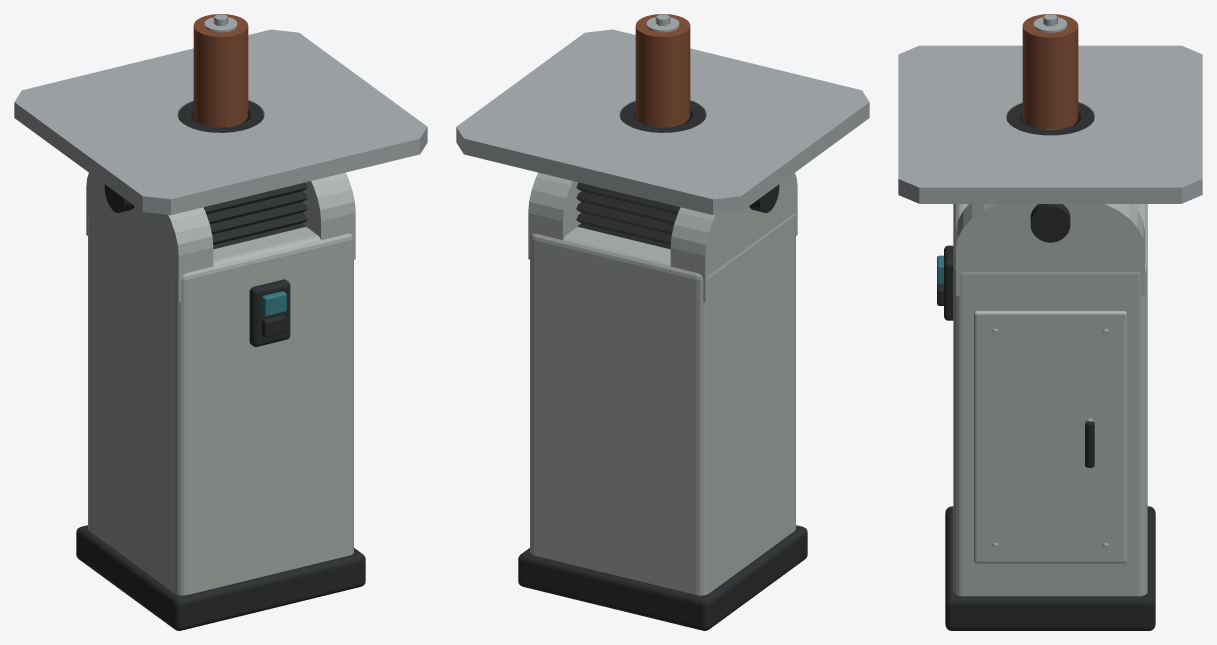
3 renders of one model, left to right at view 1: azimuth 30°, elevation 25°; view 2: azimuth 150°, elevation 25°; view 3: azimuth 270°, elevation 25°, orthographic. The views are drawn at different scales.
Visible parts, largest first — view 1: Tall closed cabinet, Clipped corner worktable with real opening, Black continuous floor plinth, Rounded table shoulder -0.16, Single thick abrasive drum, Continuous corrugated spindle shield, Rounded table shoulder 0.16, Front switch housing, Stepped circular table insert; view 2: Tall closed cabinet, Clipped corner worktable with real opening, Black continuous floor plinth, Rounded table shoulder -0.16, Single thick abrasive drum, Continuous corrugated spindle shield, Rounded table shoulder 0.16, Stepped circular table insert; view 3: Clipped corner worktable with real opening, Right service panel, Tall closed cabinet, Rounded table shoulder 0.16, Black continuous floor plinth, Single thick abrasive drum, Side table lock knob 0.226, Stepped circular table insert, Front switch housing, Right panel handle.
Part boxes in pixels (x1,y1,x2,y2): Tall closed cabinet: [88, 213, 353, 595]; Clipped corner worktable with real opening: [14, 29, 427, 215]; Black continuous floor plinth: [76, 525, 365, 630]; Rounded table shoulder -0.16: [86, 173, 213, 302]; Single thick abrasive drum: [193, 14, 248, 127]; Continuous corrugated spindle shield: [203, 182, 307, 249]; Rounded table shoulder 0.16: [302, 172, 355, 259]; Front switch housing: [249, 279, 290, 346]; Stepped circular table insert: [178, 101, 263, 132]; Tall closed cabinet: [530, 213, 795, 595]; Clipped corner worktable with real opening: [456, 29, 869, 215]; Black continuous floor plinth: [518, 525, 807, 630]; Rounded table shoulder -0.16: [670, 173, 797, 302]; Single thick abrasive drum: [635, 14, 690, 127]; Continuous corrugated spindle shield: [576, 182, 680, 249]; Rounded table shoulder 0.16: [528, 172, 581, 259]; Stepped circular table insert: [620, 101, 705, 132]; Clipped corner worktable with real opening: [898, 45, 1202, 203]; Right service panel: [974, 311, 1126, 563]; Tall closed cabinet: [953, 204, 1147, 596]; Rounded table shoulder 0.16: [956, 204, 1144, 296]; Black continuous floor plinth: [945, 506, 1155, 630]; Single thick abrasive drum: [1022, 14, 1078, 129]; Side table lock knob 0.226: [1030, 204, 1070, 242]; Stepped circular table insert: [1007, 103, 1093, 135]; Front switch housing: [944, 245, 953, 320]; Right panel handle: [1085, 421, 1094, 467].
Size of the model in its own units: 0.64 by 1.19 by 0.58.
